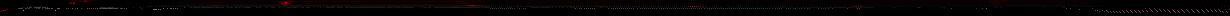Blue cone: (21, 7, 27, 8)
Yellow cone: (277, 1, 296, 6), (854, 6, 862, 8)
